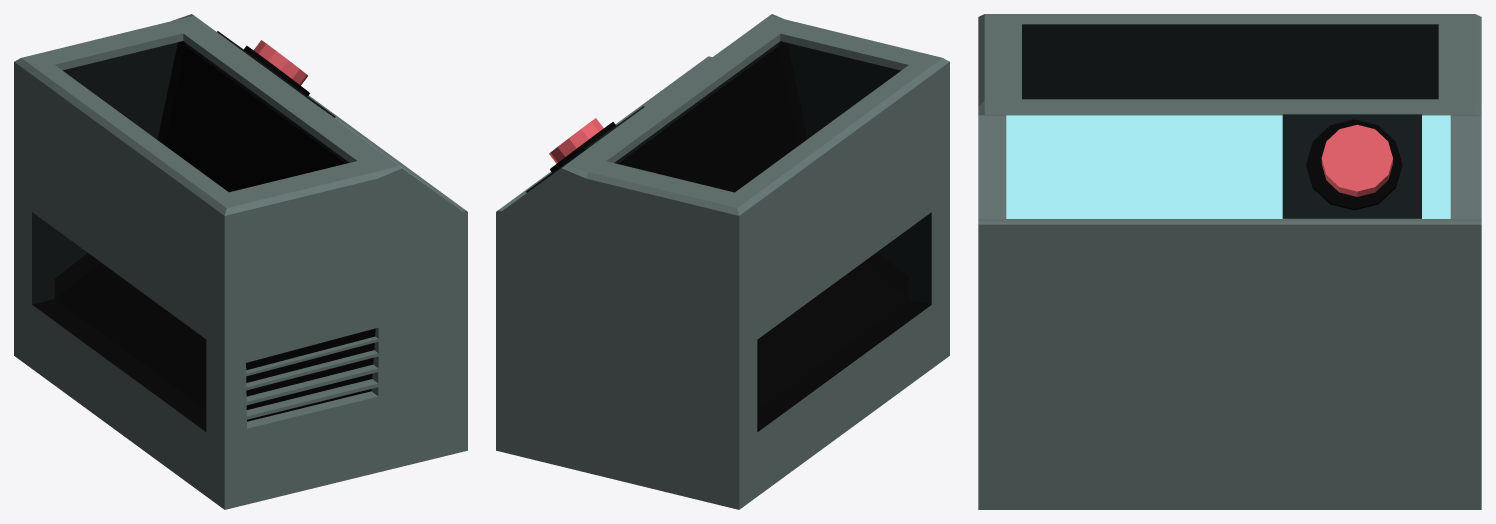
The model's file is maquina de envio.fbx.
The picture shows the model from 3 angles, left to right: view 1: azimuth 30°, elevation 25°; view 2: azimuth 150°, elevation 25°; view 3: azimuth 270°, elevation 25°; orthographic projection. The views are drawn at different scales.
Parts seen in each view (by area): view 1: Cubo, Cilindro.001; view 2: Cubo, Cilindro.001; view 3: Cubo, Cilindro.001.
Part boxes in pixels (x1,y1,x2,y2): Cubo: [14, 14, 467, 509]; Cilindro.001: [253, 40, 307, 85]; Cubo: [496, 14, 949, 509]; Cilindro.001: [549, 118, 603, 163]; Cubo: [978, 14, 1481, 509]; Cilindro.001: [1321, 124, 1392, 196].
Size of the model in its own units: 274 by 324 by 411.
